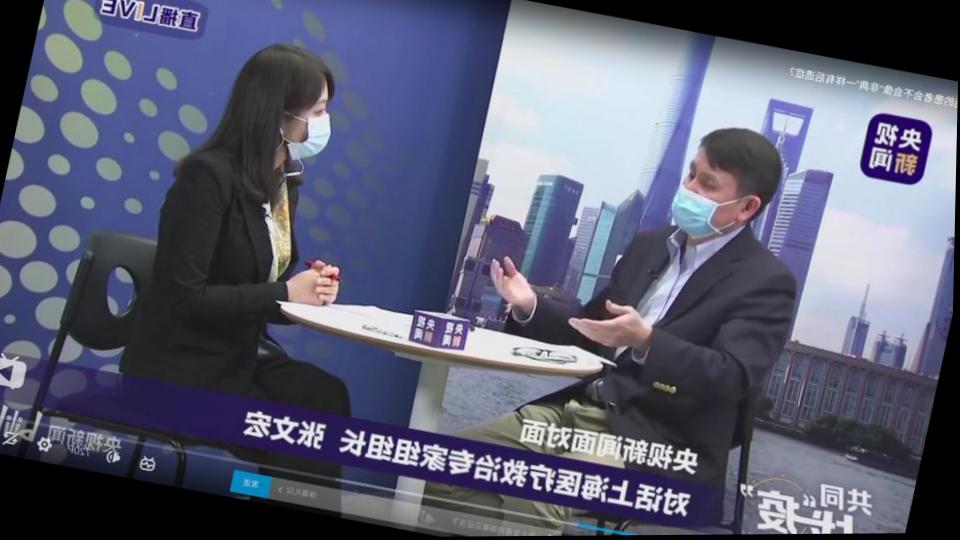OK: (280, 80, 342, 165)
WRONG: (669, 156, 737, 244)
